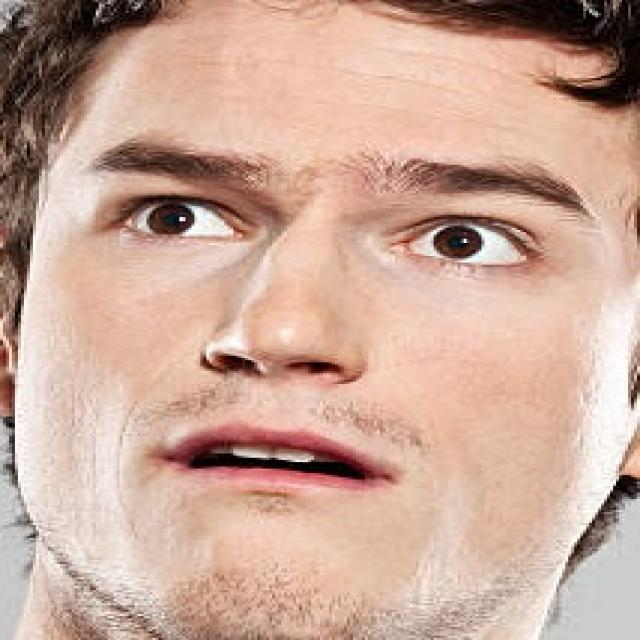Anxiety: (12, 0, 637, 638)
